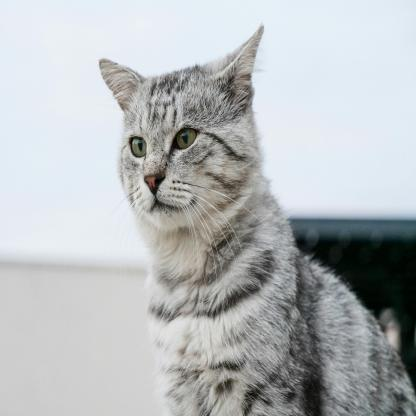cat: (100, 59, 298, 416)
